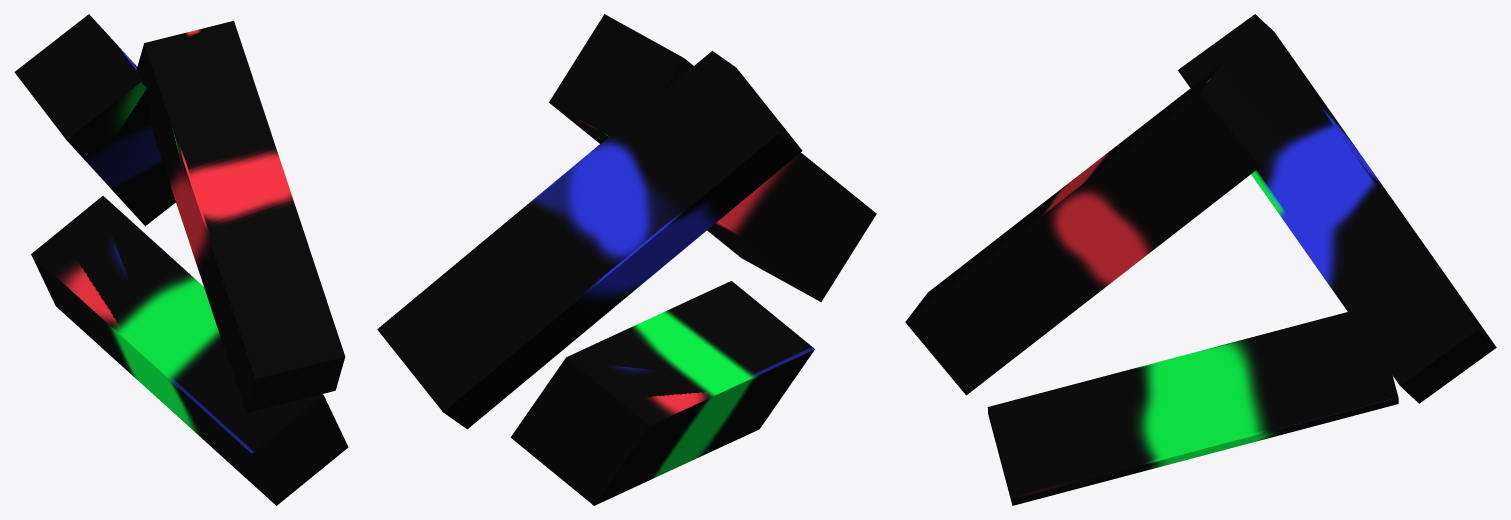
The model's file is materialTextureTest.obj.
The picture shows the model from 3 angles, left to right: view 1: azimuth 30°, elevation 25°; view 2: azimuth 150°, elevation 25°; view 3: azimuth 270°, elevation 25°; orthographic projection. The views are drawn at different scales.
Parts seen in each view (by area): view 1: Cube.002; view 2: Cube.002; view 3: Cube.002.
Boxes of the visible parts, x1,y1,x2,y2 form: Cube.002: (14,14,348,505); Cube.002: (377,14,876,505); Cube.002: (905,14,1496,505).
Bounding box in the file's own units: 1.63 × 2.51 × 2.96.
1 material, 1 textured.
